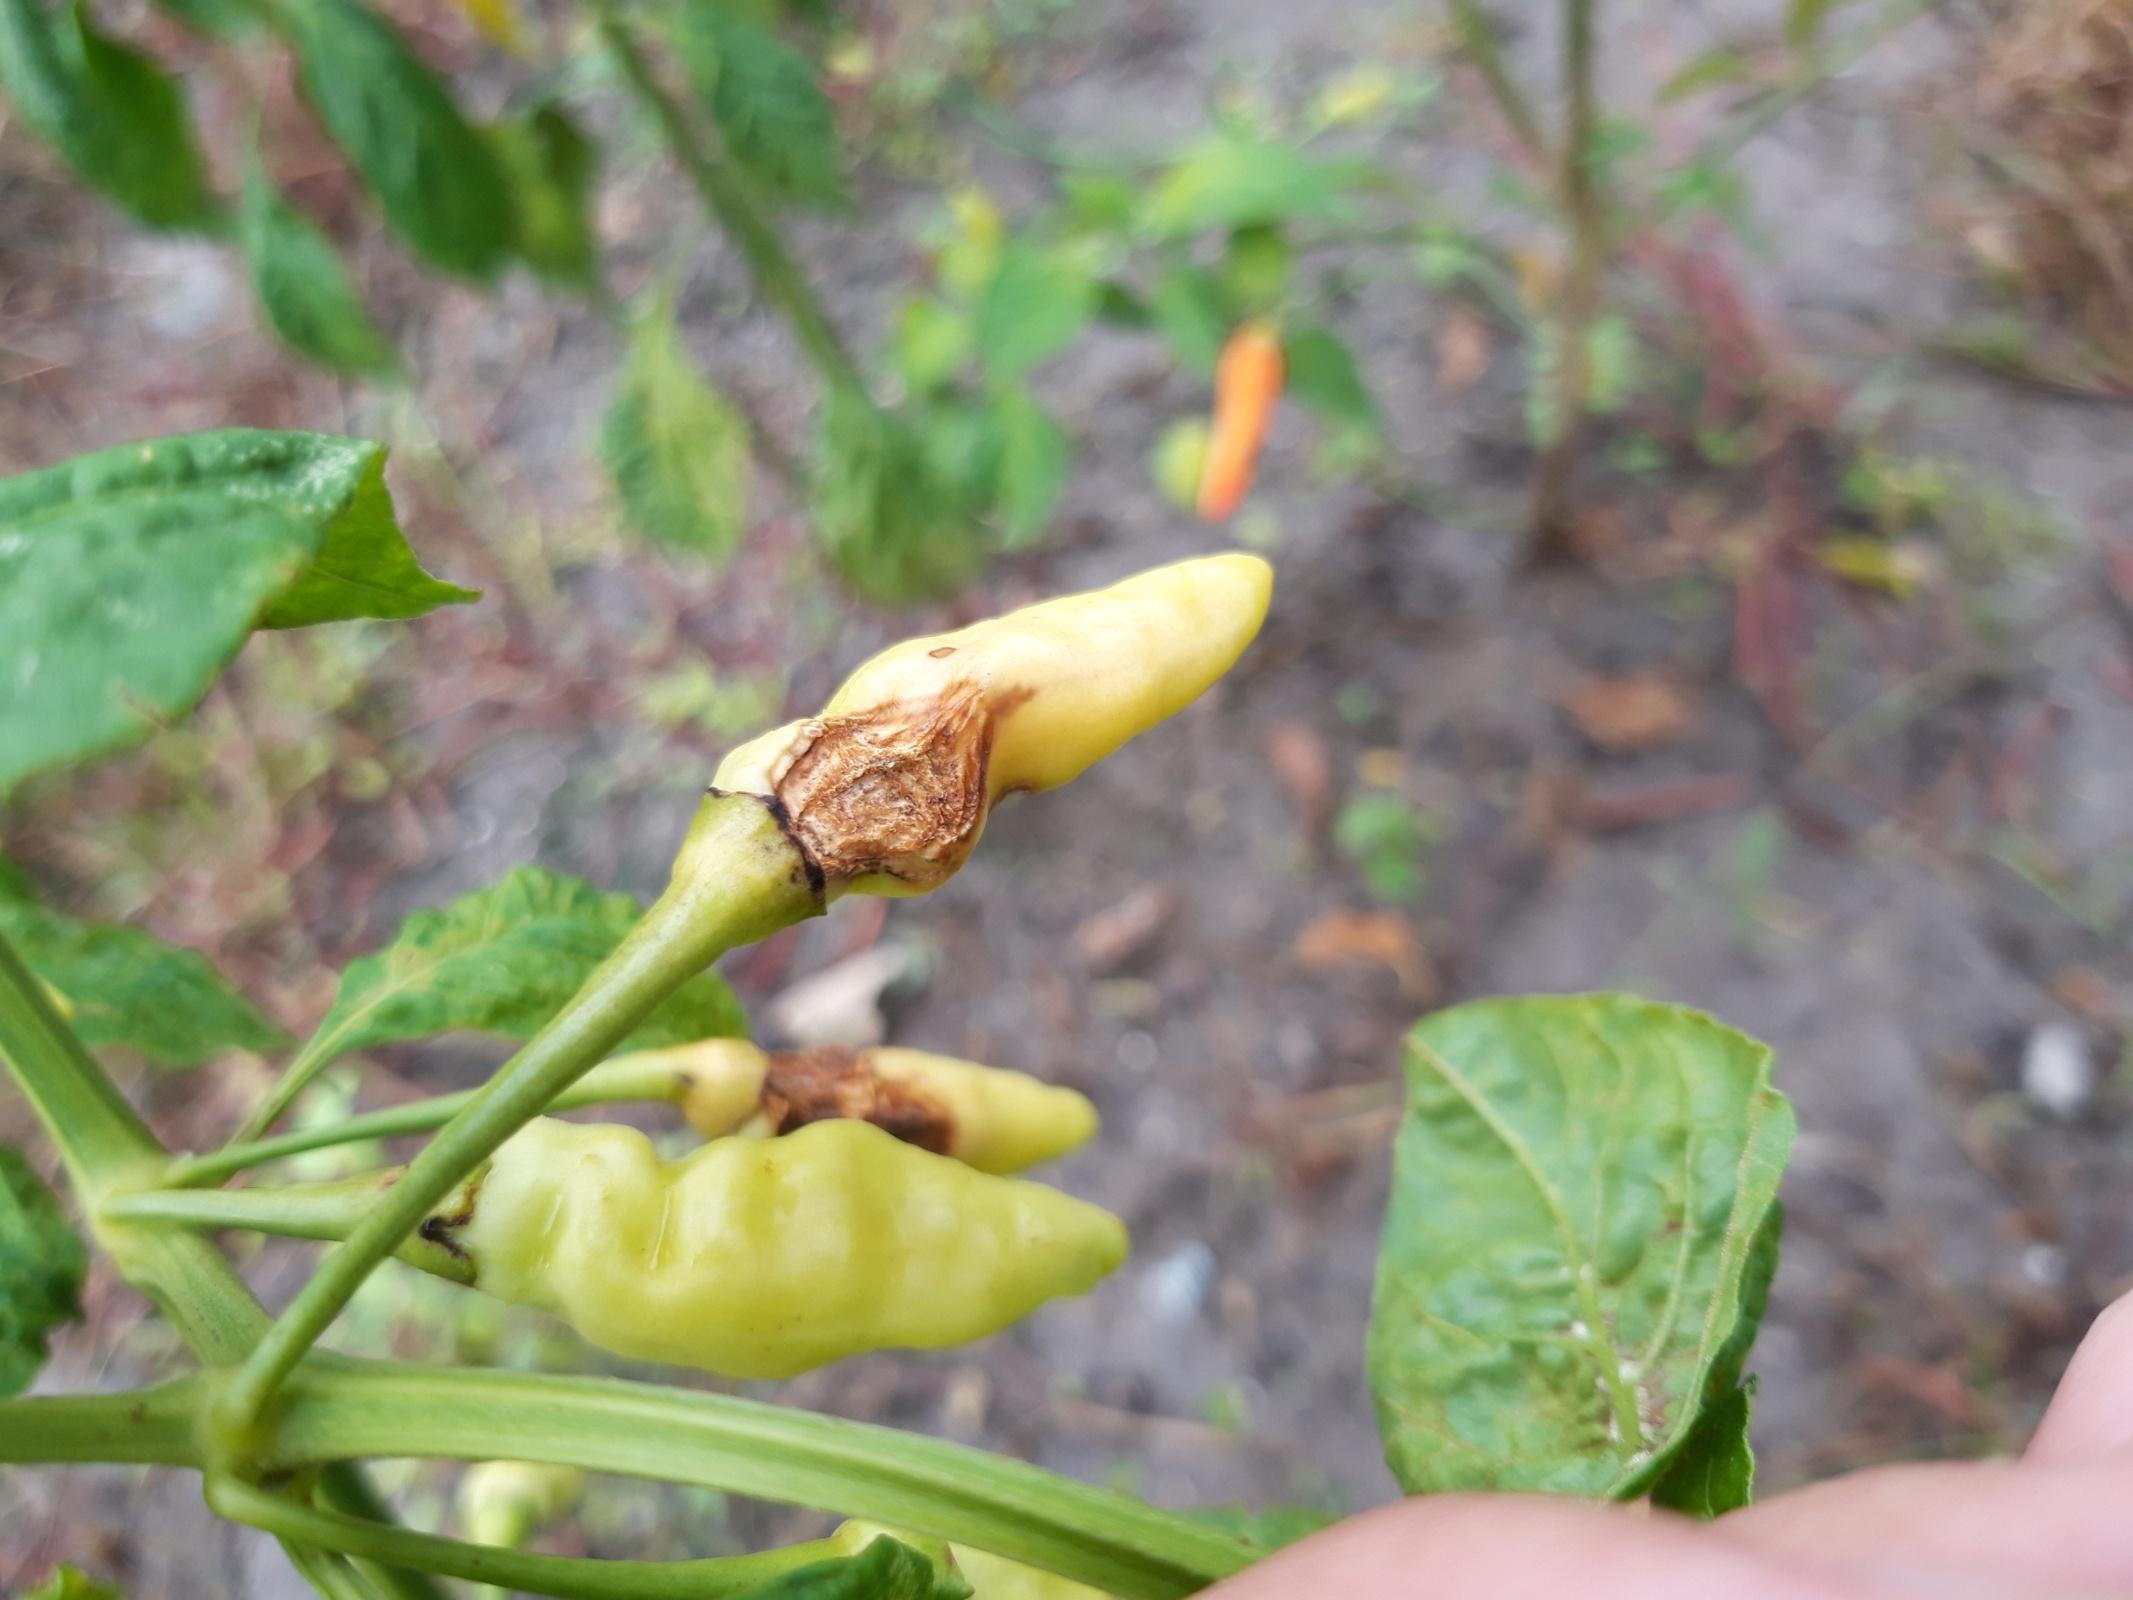antraknosa: (682, 543, 1289, 918), (698, 1029, 1108, 1165)
cabai_normal: (420, 1081, 1126, 1371)
